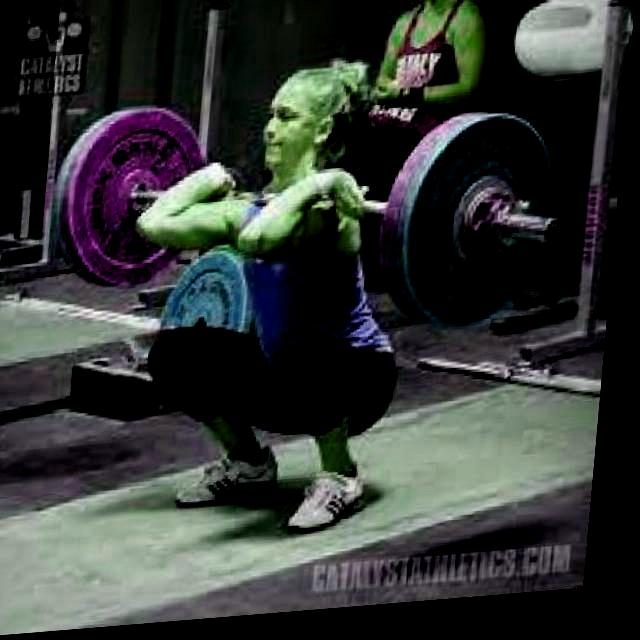barbell: (392, 115, 582, 345)
